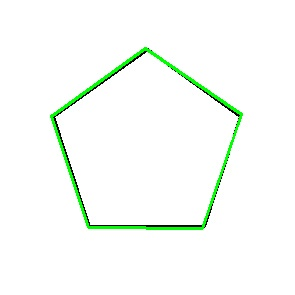line_segment: (51, 48, 242, 229)
